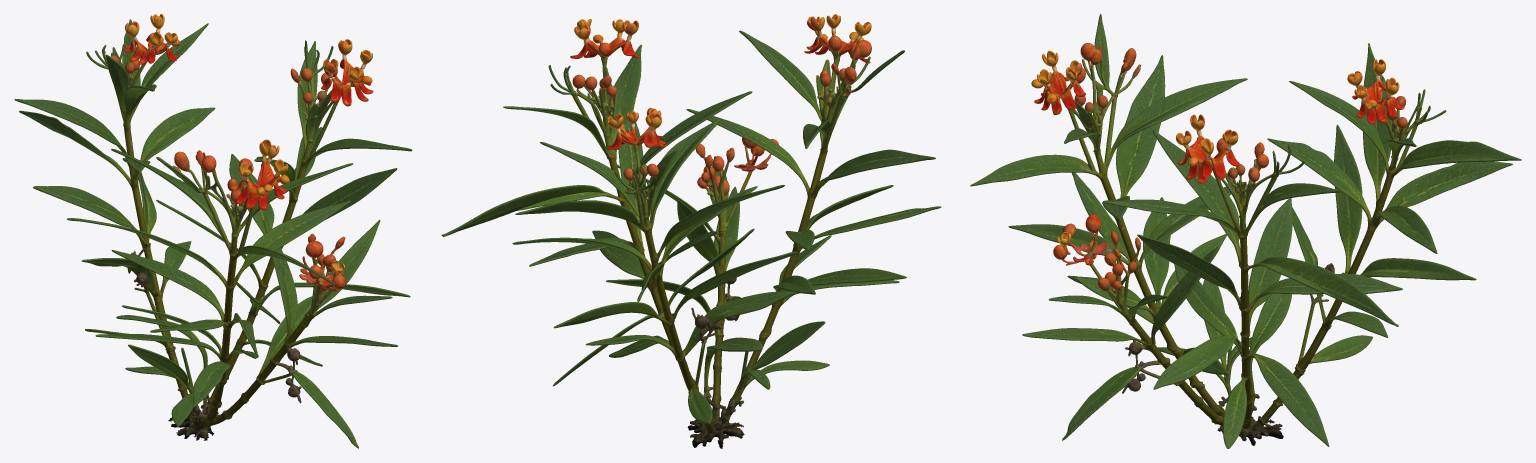
Rendered from planta_danaus_1k.fbx.
The picture shows the model from 3 angles, left to right: view 1: azimuth 30°, elevation 25°; view 2: azimuth 150°, elevation 25°; view 3: azimuth 270°, elevation 25°; orthographic projection. The views are drawn at different scales.
Parts seen in each view (by area): view 1: tripo_node_bb12818c; view 2: tripo_node_bb12818c; view 3: tripo_node_bb12818c.
Part boxes in pixels (x1=…): tripo_node_bb12818c: x1=14, y1=14, x2=412, y2=448; tripo_node_bb12818c: x1=441, y1=14, x2=941, y2=448; tripo_node_bb12818c: x1=970, y1=14, x2=1521, y2=448.
Bounding box in the file's own units: 0.7889 × 0.742 × 0.987.
